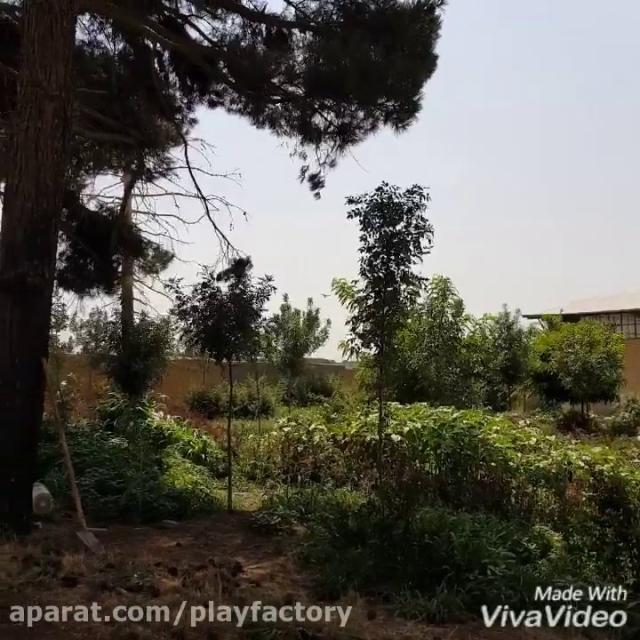drone: (316, 288, 334, 300)
